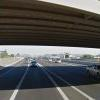Bridge: (5, 1, 97, 53)
